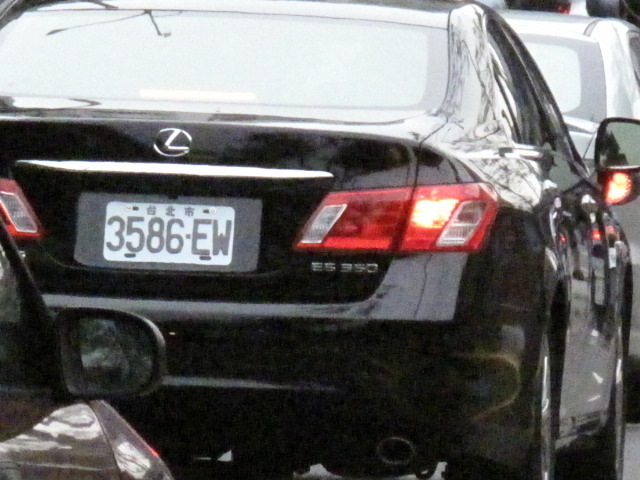plate: (103, 197, 233, 269)
